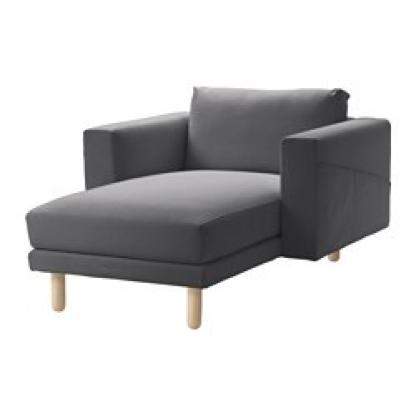Sofa: (16, 56, 392, 338)
